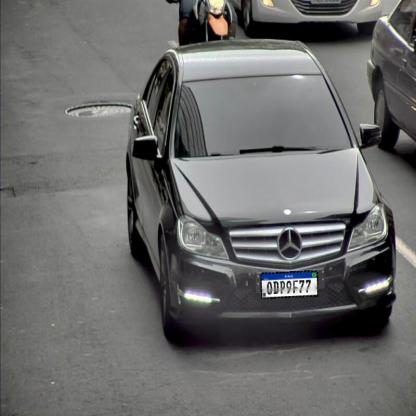PlacaM: (261, 270, 318, 299)
